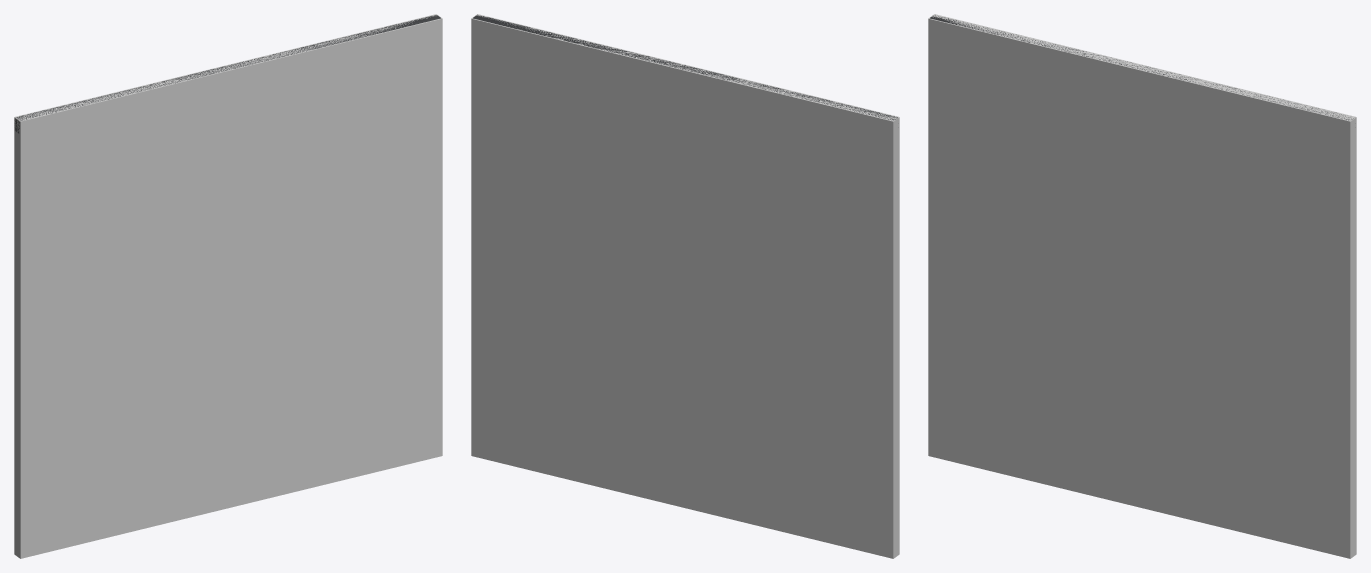
Rendered from Fence_Panel_2m.glb.
The picture shows the model from 3 angles, left to right: view 1: azimuth 30°, elevation 25°; view 2: azimuth 150°, elevation 25°; view 3: azimuth 330°, elevation 25°; orthographic projection.
Parts seen in each view (by area): view 1: Fence_Panel; view 2: Fence_Panel; view 3: Fence_Panel.
Boxes of the visible parts, x1=… form: Fence_Panel: x1=14, y1=14, x2=442, y2=558; Fence_Panel: x1=471, y1=14, x2=899, y2=558; Fence_Panel: x1=928, y1=14, x2=1356, y2=558.
Bounding box in the file's own units: 1.92 × 1.9 × 0.05.
2 materials, 1 textured.
